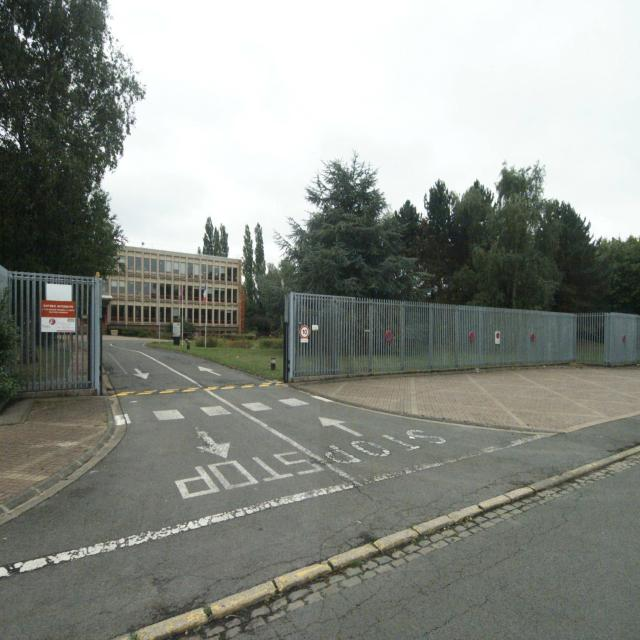forb_stopping: (386, 332, 392, 340)
